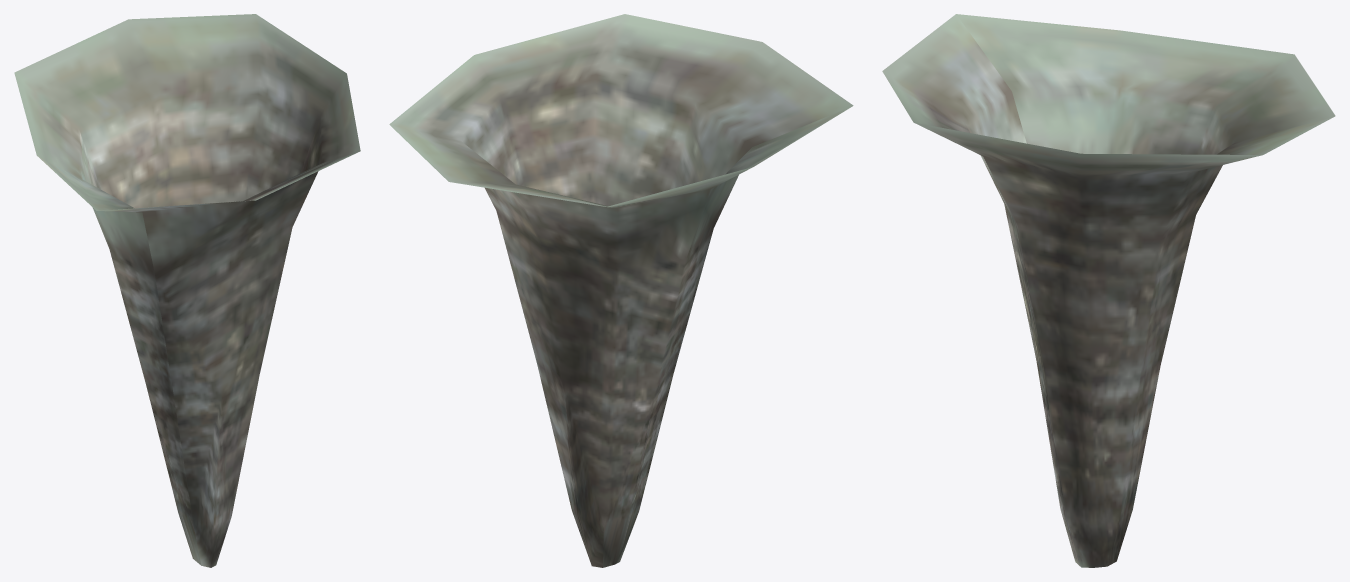
Rendered from TROLLHOLE02_PS-SECRETSTALAG13.fbx.
The picture shows the model from 3 angles, left to right: view 1: azimuth 30°, elevation 25°; view 2: azimuth 150°, elevation 25°; view 3: azimuth 270°, elevation 25°; orthographic projection. The views are drawn at different scales.
Visible parts, largest first — view 1: TROLLHOLE02_PS-SECRETSTALAG13; view 2: TROLLHOLE02_PS-SECRETSTALAG13; view 3: TROLLHOLE02_PS-SECRETSTALAG13.
Boxes of the visible parts, x1=… form: TROLLHOLE02_PS-SECRETSTALAG13: x1=14, y1=14, x2=360, y2=567; TROLLHOLE02_PS-SECRETSTALAG13: x1=389, y1=14, x2=853, y2=567; TROLLHOLE02_PS-SECRETSTALAG13: x1=882, y1=14, x2=1335, y2=567.
Size of the model in its own units: 20855 by 29564 by 25255.
Materials: 1 (1 with a texture image).
